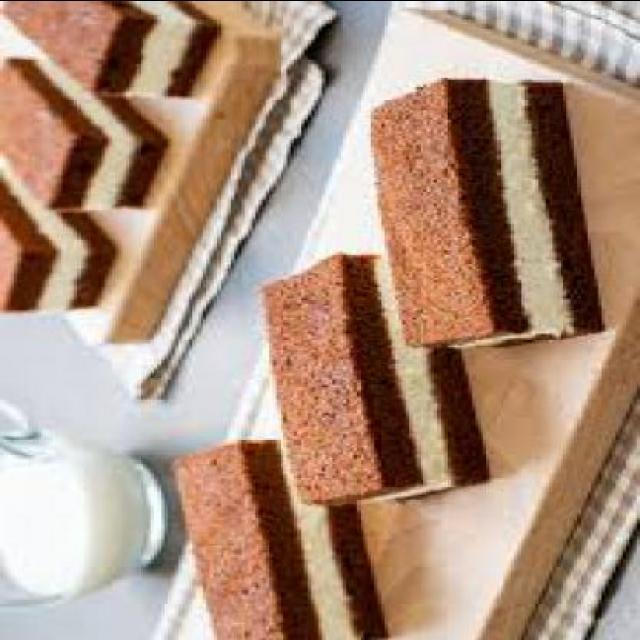Merendine packaged: (367, 77, 602, 355), (265, 242, 493, 506), (172, 447, 392, 638), (7, 2, 213, 93)
